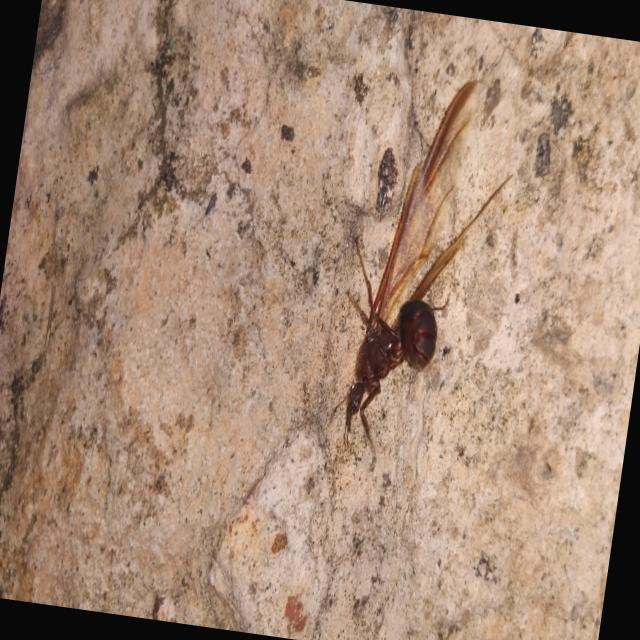Alive-Female-Alate: (324, 65, 526, 468)
